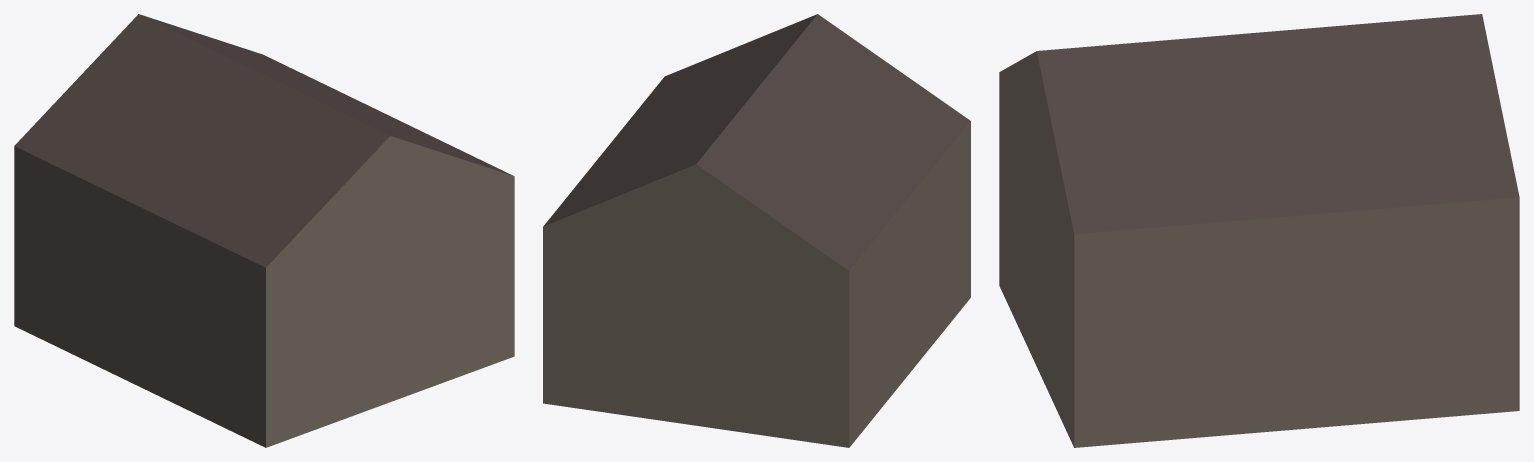
3 renders of one model, left to right at view 1: azimuth 30°, elevation 25°; view 2: azimuth 150°, elevation 25°; view 3: azimuth 270°, elevation 25°, orthographic. The views are drawn at different scales.
Parts seen in each view (by area): view 1: HP-w1376988801; view 2: HP-w1376988801; view 3: HP-w1376988801.
Boxes of the visible parts, x1,y1,x2,y2 form: HP-w1376988801: [14, 14, 514, 447]; HP-w1376988801: [543, 14, 970, 447]; HP-w1376988801: [999, 14, 1519, 447].
Size of the model in its own units: 12.01 by 8.88 by 13.25.
